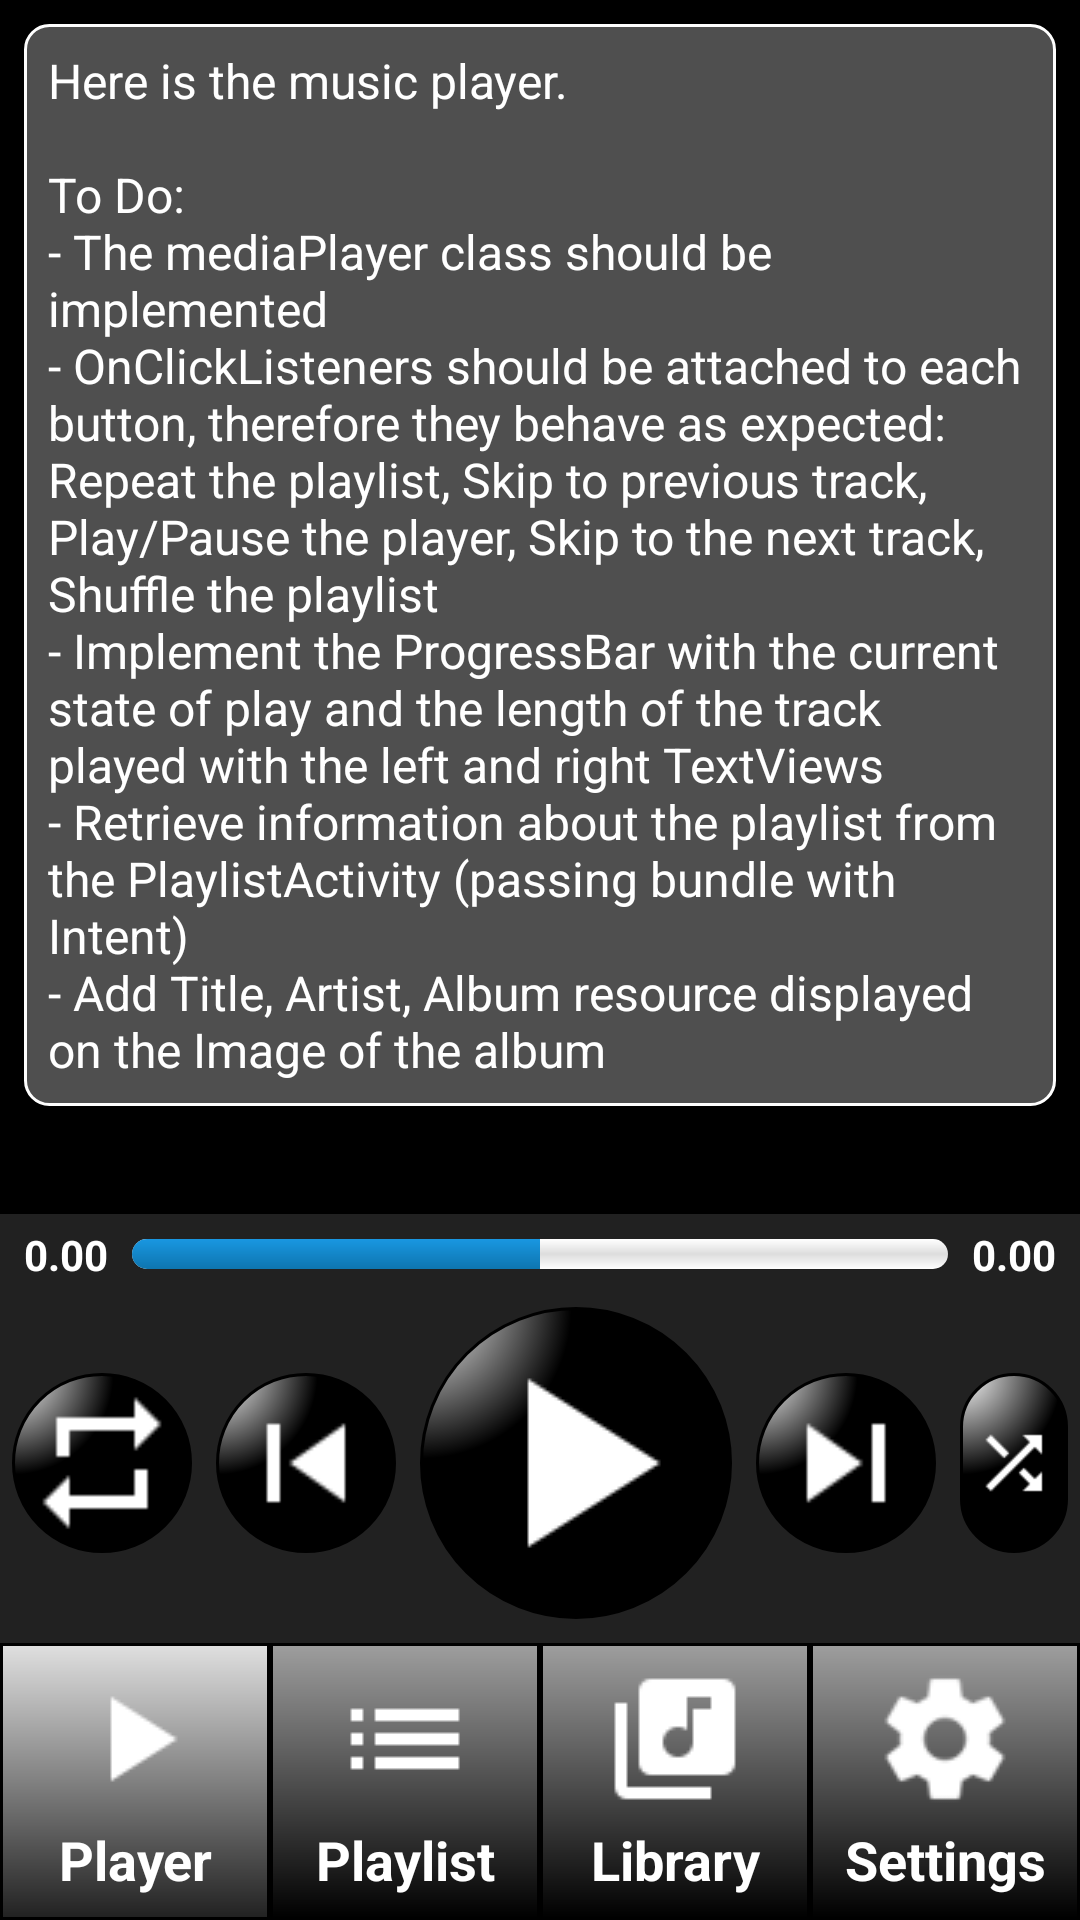

Icons on this 1080*1920 Android screen, each with its box as box(x1, y1, x2, y2):
play arrow: box(420, 1307, 732, 1619)
repeat: box(12, 1373, 192, 1553)
shuffle: box(960, 1373, 1068, 1553)
skip next: box(756, 1373, 936, 1553)
skip previous: box(216, 1373, 396, 1553)
